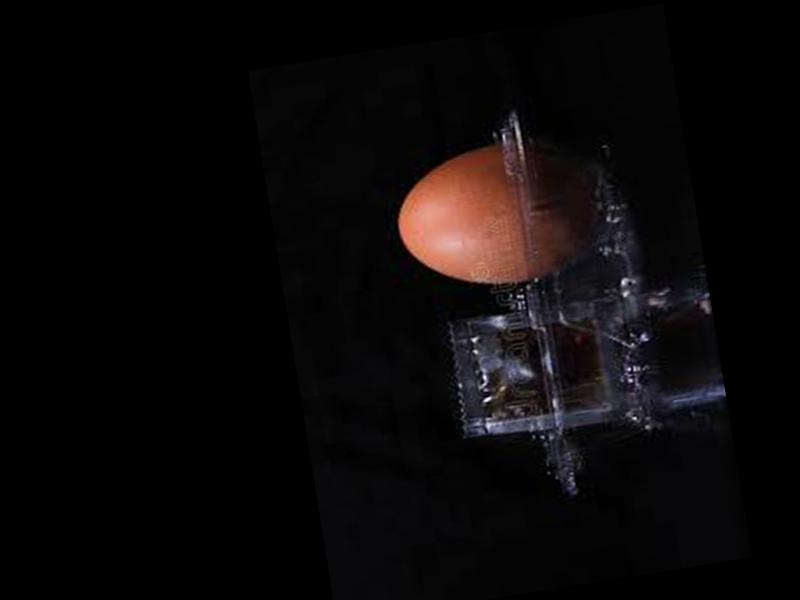Eggs: (388, 126, 614, 298)
